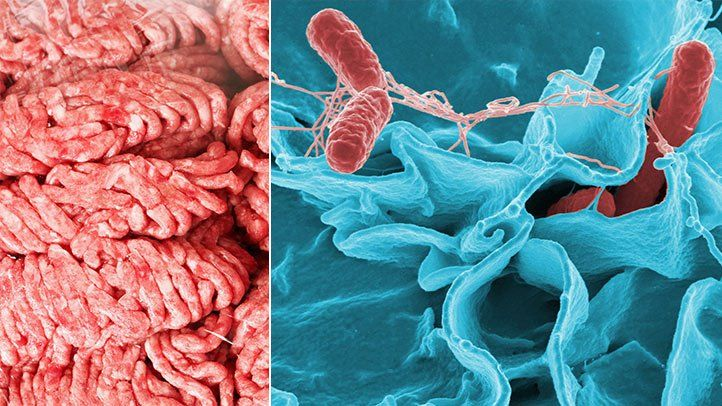ground_beef: (7, 9, 244, 406)
